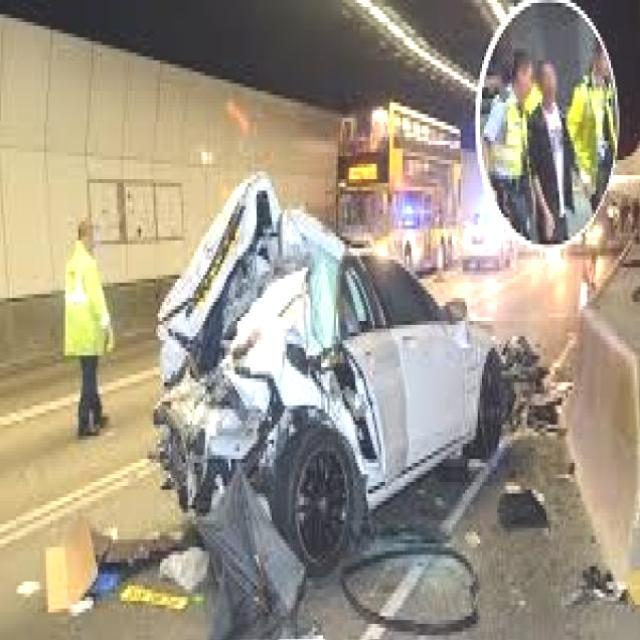accident: (151, 192, 484, 592)
